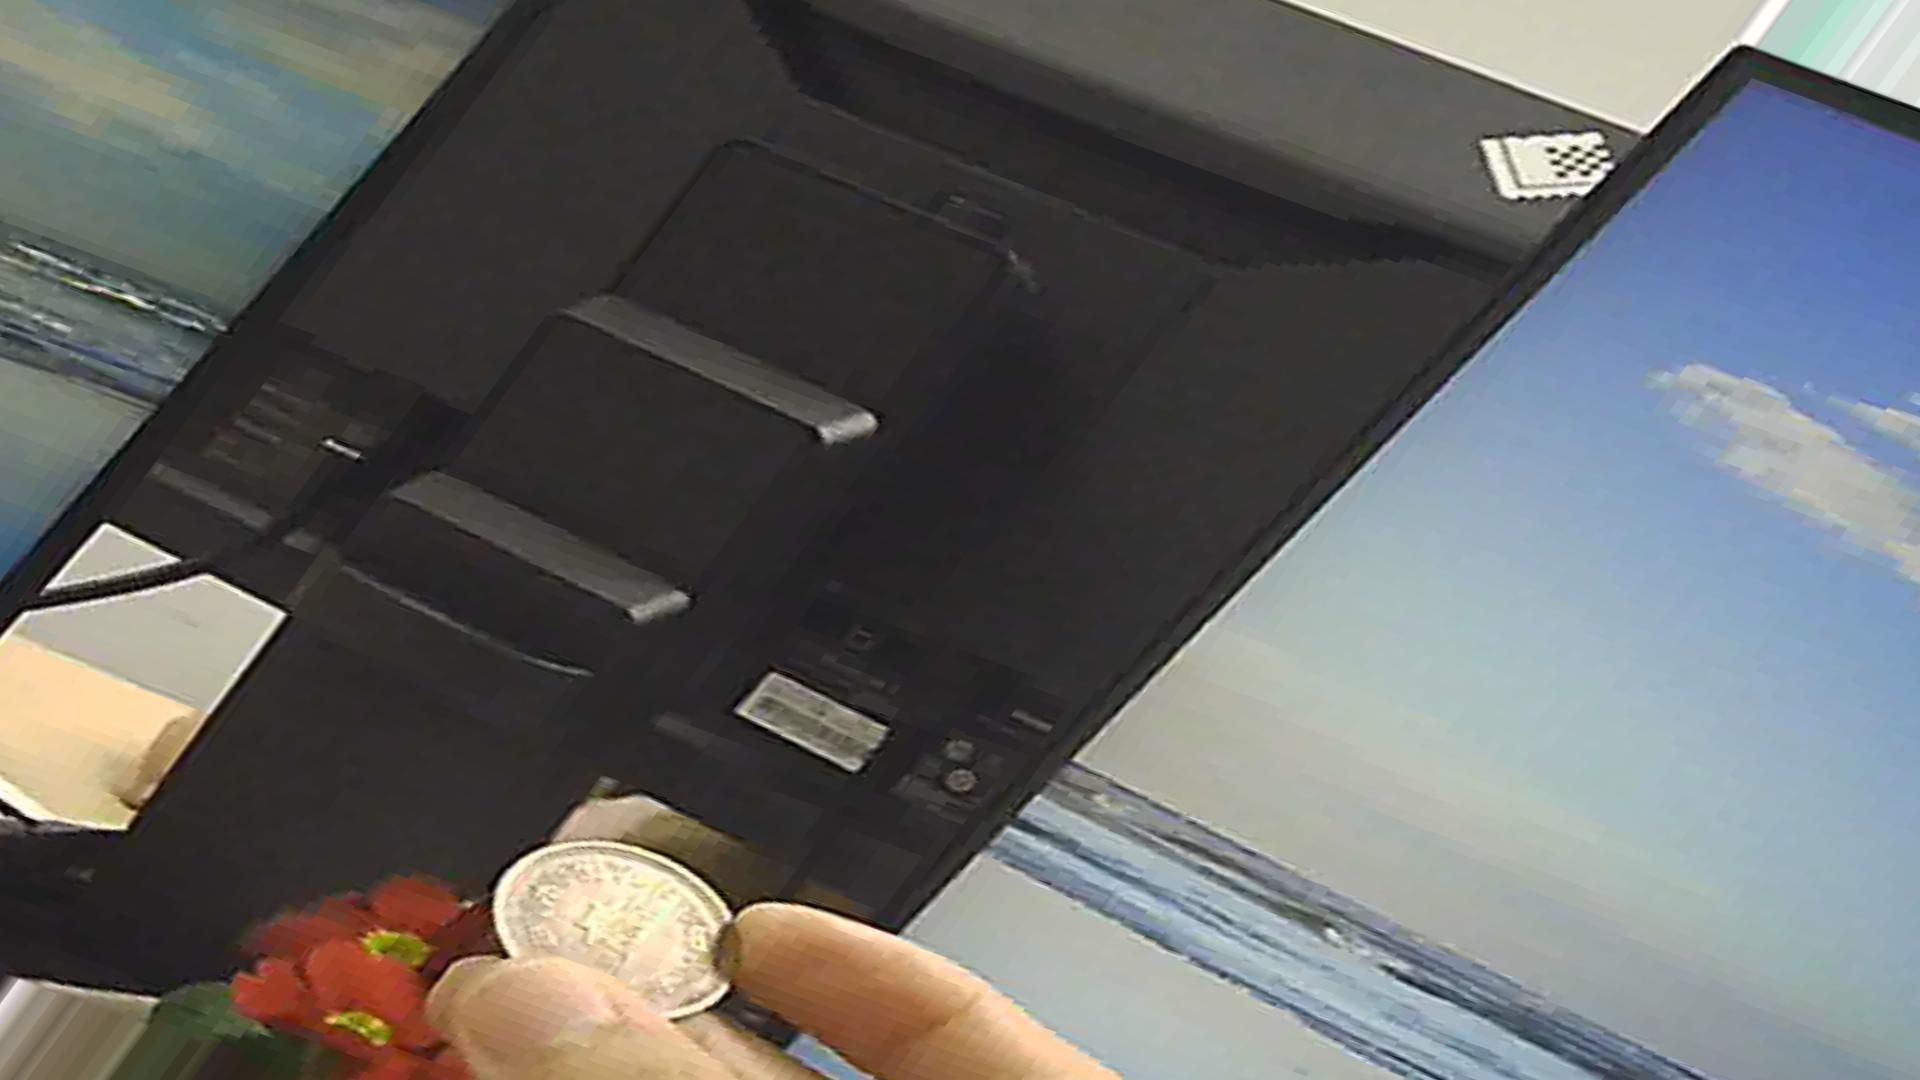10 Yen: (473, 837, 752, 1021)
